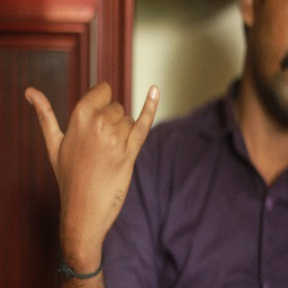J: (24, 60, 162, 206)
